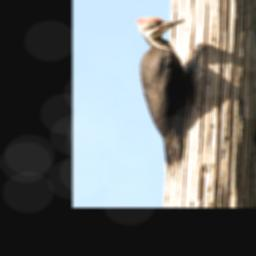Woodpecker: (135, 16, 205, 176)
